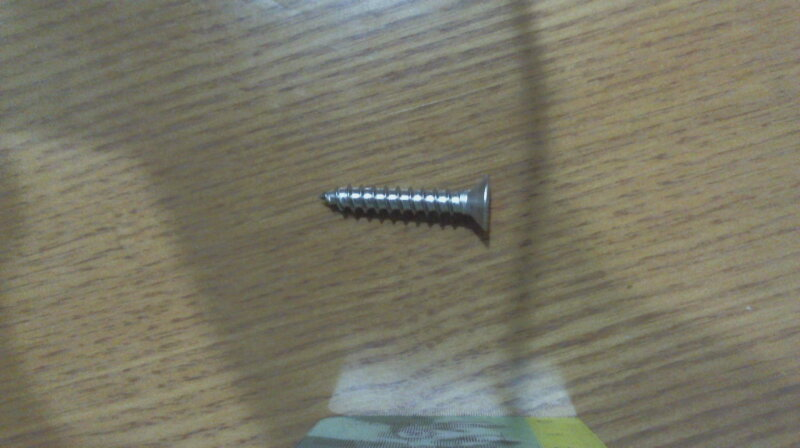S001: (317, 172, 494, 239)
